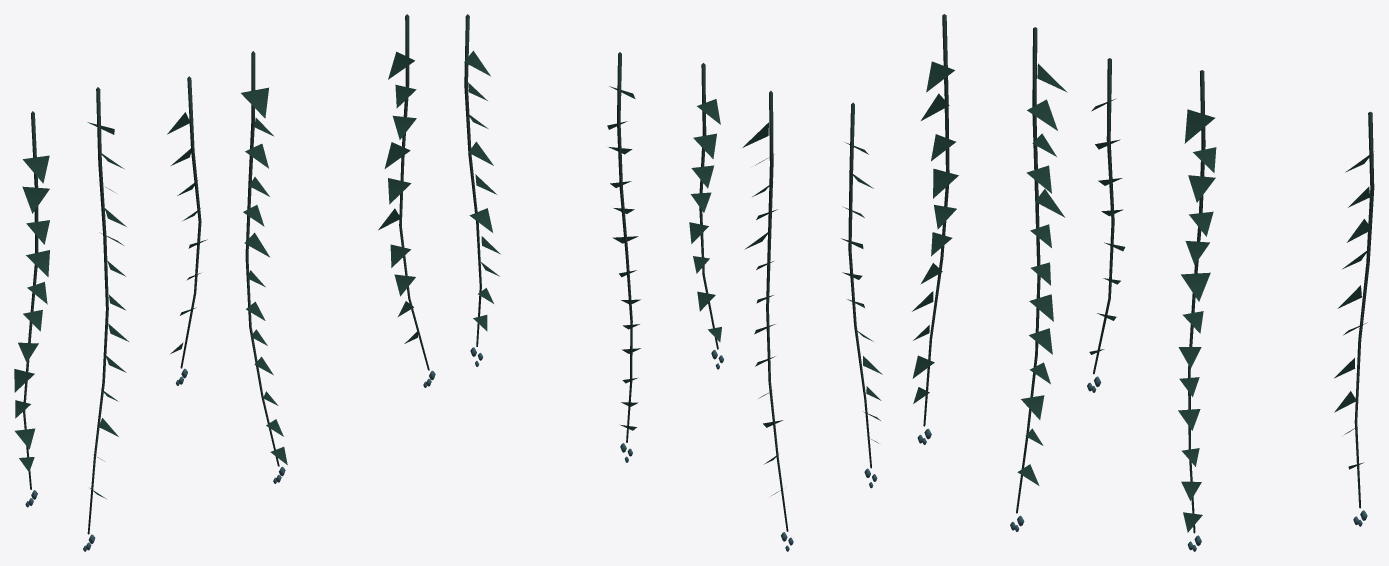
Rendered from vines_lod1.glb.
3 renders of one model, left to right at view 1: azimuth 30°, elevation 25°; view 2: azimuth 150°, elevation 25°; view 3: azimuth 330°, elevation 25°, orthographic. The views are drawn at different scales.
Parts seen in each view (by area): view 1: vines_lod1; view 2: vines_lod1; view 3: vines_lod1.
Part boxes in pixels (bbox=[...]): vines_lod1: bbox=[14, 14, 435, 551]; vines_lod1: bbox=[464, 14, 882, 551]; vines_lod1: bbox=[912, 14, 1374, 551].
Bounding box in the file's own units: 3.68 × 3.88 × 0.5013.
